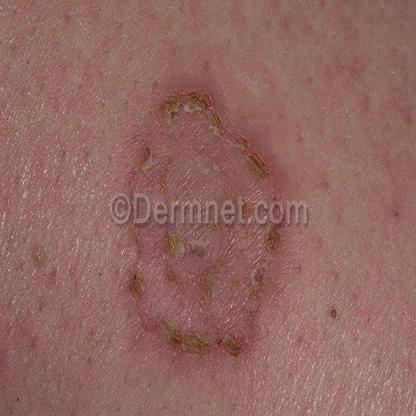Eczema: (104, 64, 301, 198), (113, 228, 295, 357)
